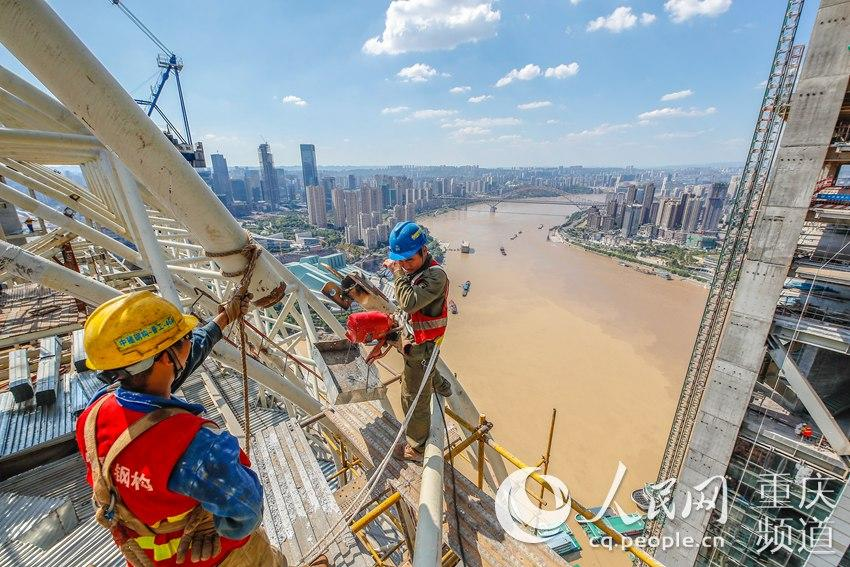helmet: (83, 292, 199, 373), (387, 222, 430, 262)
